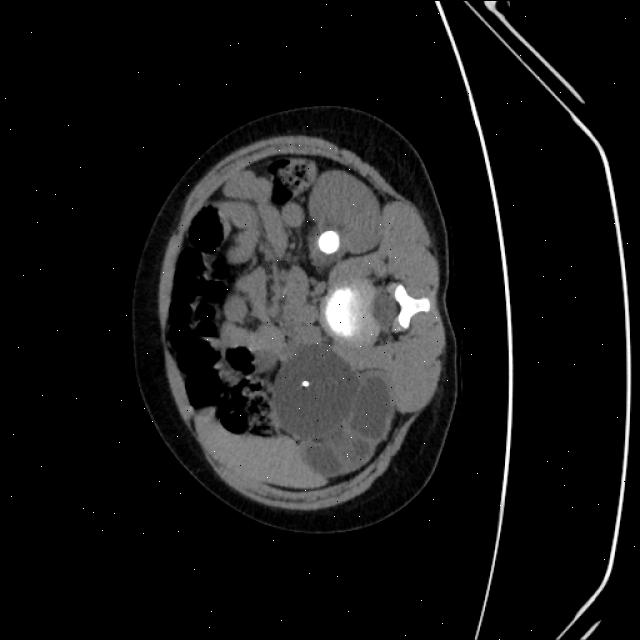kidneystone: (319, 230, 340, 252), (300, 379, 311, 388)
